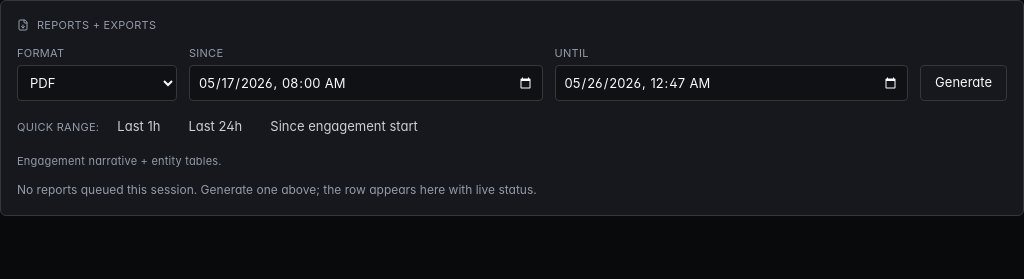
Test case: ReportsPanel › suppresses the download anchor when download_url is off-origin / unsafe
Click the button "Generate". click: (964, 83)
box: [920,65,1007,101]
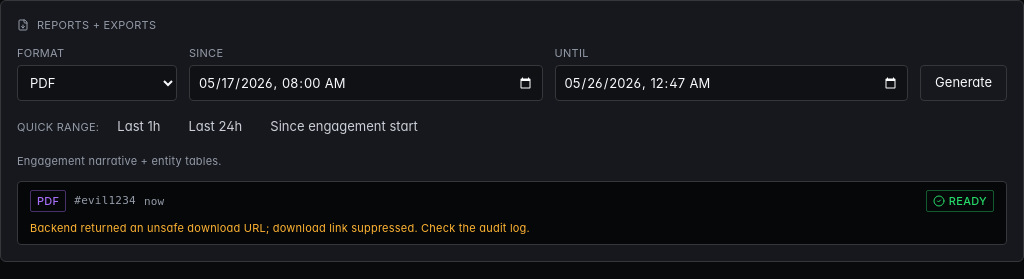
Check: the message with test id "download-blocked" is shown, box [30,221,530,235]
